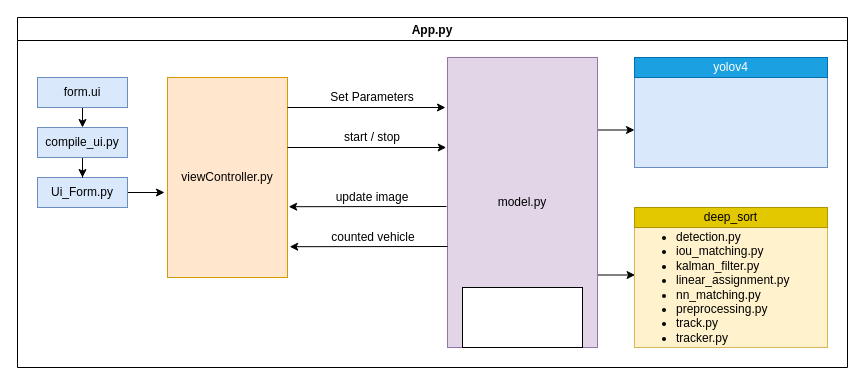
Image size: 865x385. Some labels were removed from this diagram. Each missing label, with the centre of its shape:
backbone.py common.py config.py dataset.py utils.py yolov4.py: point (731, 122)
vehicle counting: point (522, 317)
